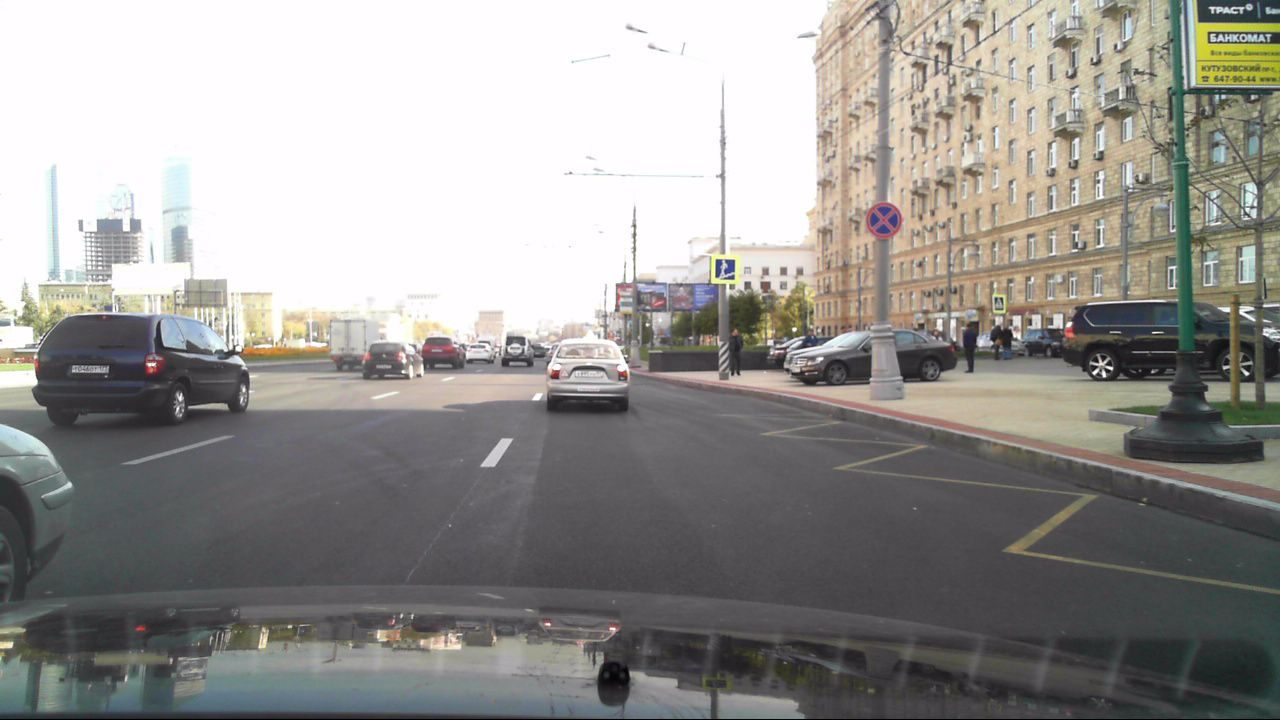No Parking: (866, 196, 903, 237)
